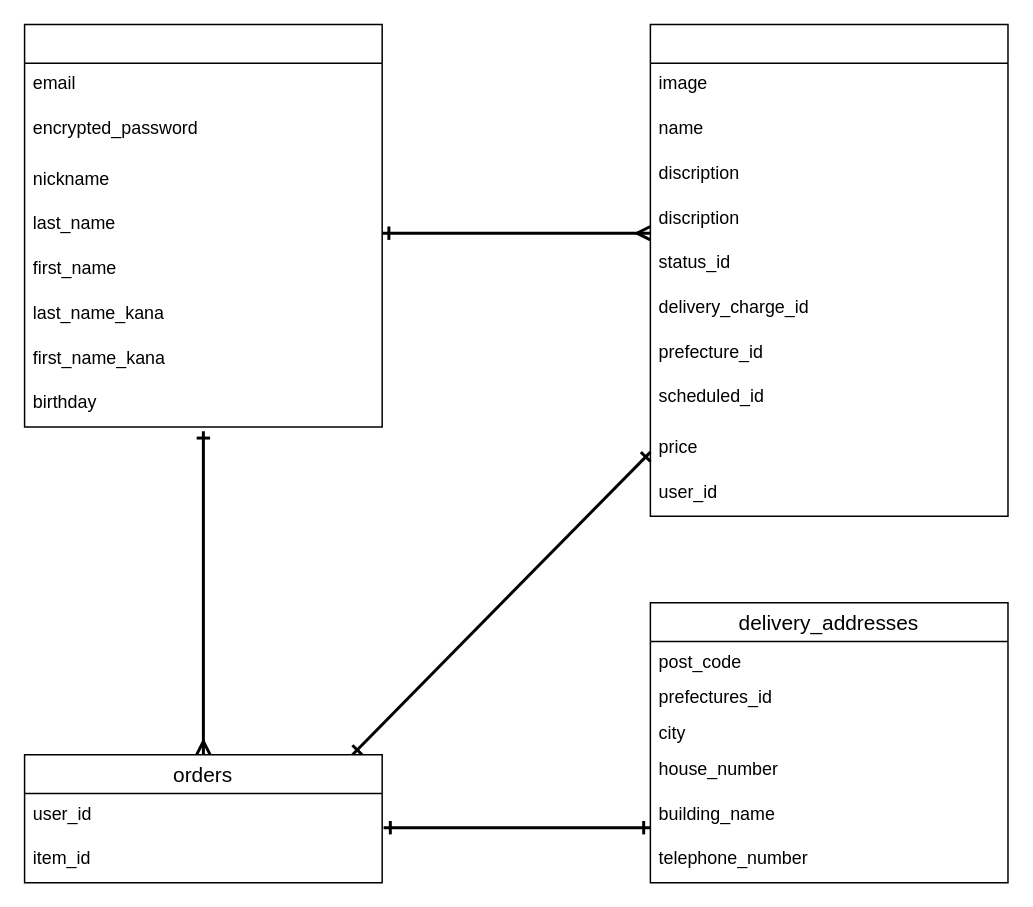
The diagram is 1033 pixels wide and 907 high, and some of its shapes have lost their labels. Here are the shapes that lost their labels. From the top down, the box of each, then its label:
(23, 23, 382, 427): users
(649, 23, 1008, 516): items
